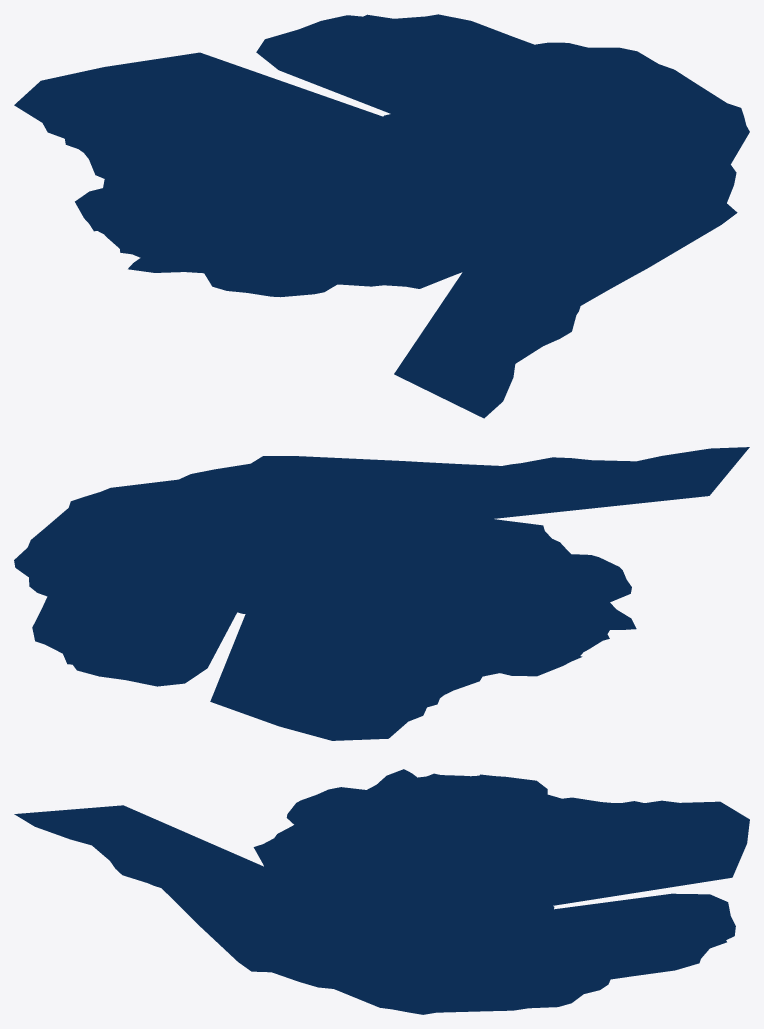
The model's file is Water.FBX.
3 views of the same model, one above another, from view 1: azimuth 30°, elevation 25°; view 2: azimuth 150°, elevation 25°; view 3: azimuth 270°, elevation 25° (orthographic). The views are drawn at different scales.
Visible parts, largest first — view 1: Water; view 2: Water; view 3: Water.
Boxes of the visible parts, box(x1,y1,x2,y2) form: Water: box(14, 14, 749, 418); Water: box(14, 447, 749, 740); Water: box(14, 769, 749, 1014).
Bounding box in the file's own units: 97.23 × 0.0839 × 123.
